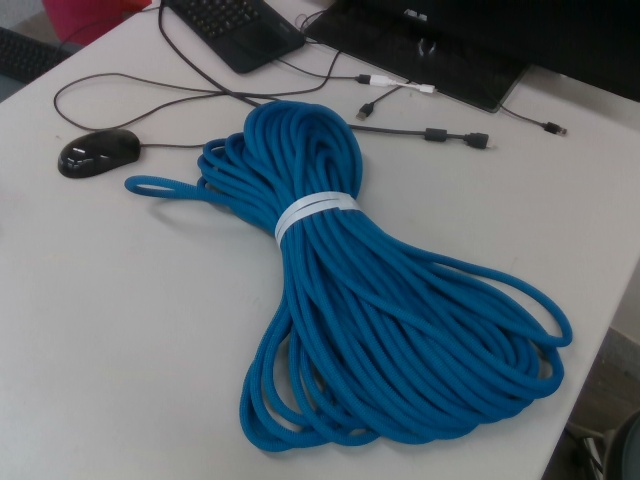rope: (122, 99, 578, 453)
